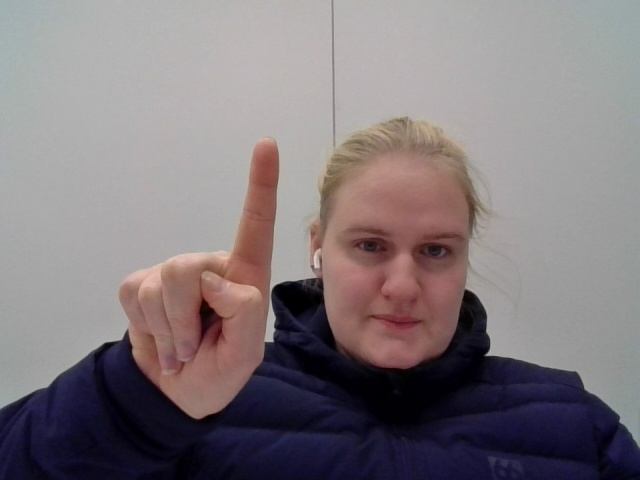up: (112, 133, 312, 424)
